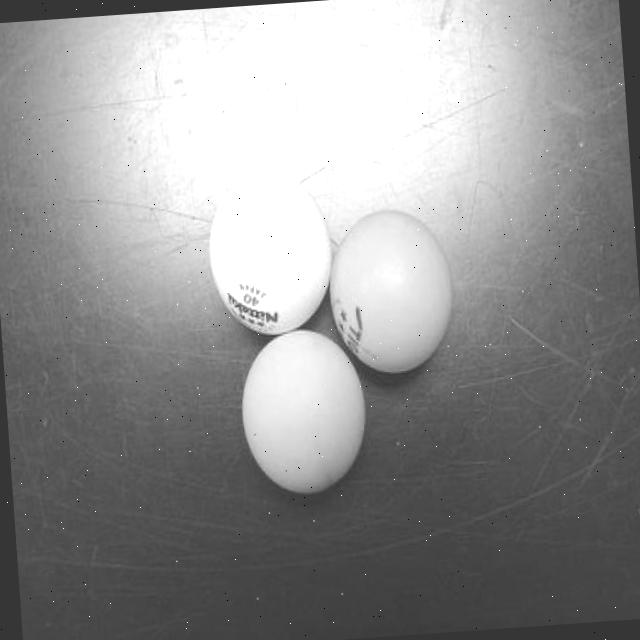ping-pong-ball: (318, 198, 464, 380), (232, 320, 372, 506), (201, 162, 340, 342)
